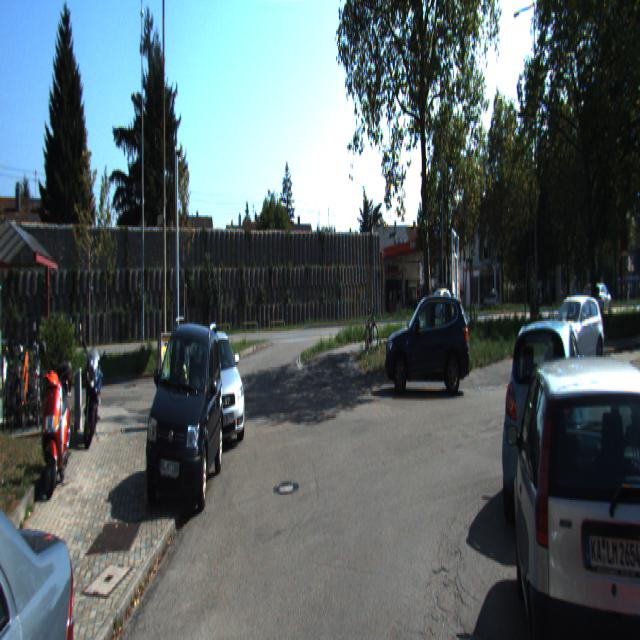Car: (510, 330, 640, 638), (0, 377, 102, 638), (496, 293, 592, 542), (144, 306, 226, 520), (591, 309, 640, 638), (382, 282, 472, 392), (187, 320, 250, 451), (540, 294, 608, 373), (426, 282, 460, 319)
